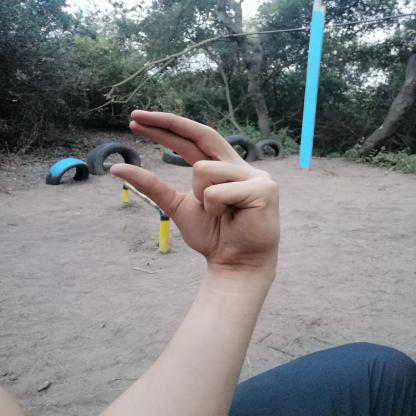DHELL: (100, 103, 291, 276)
